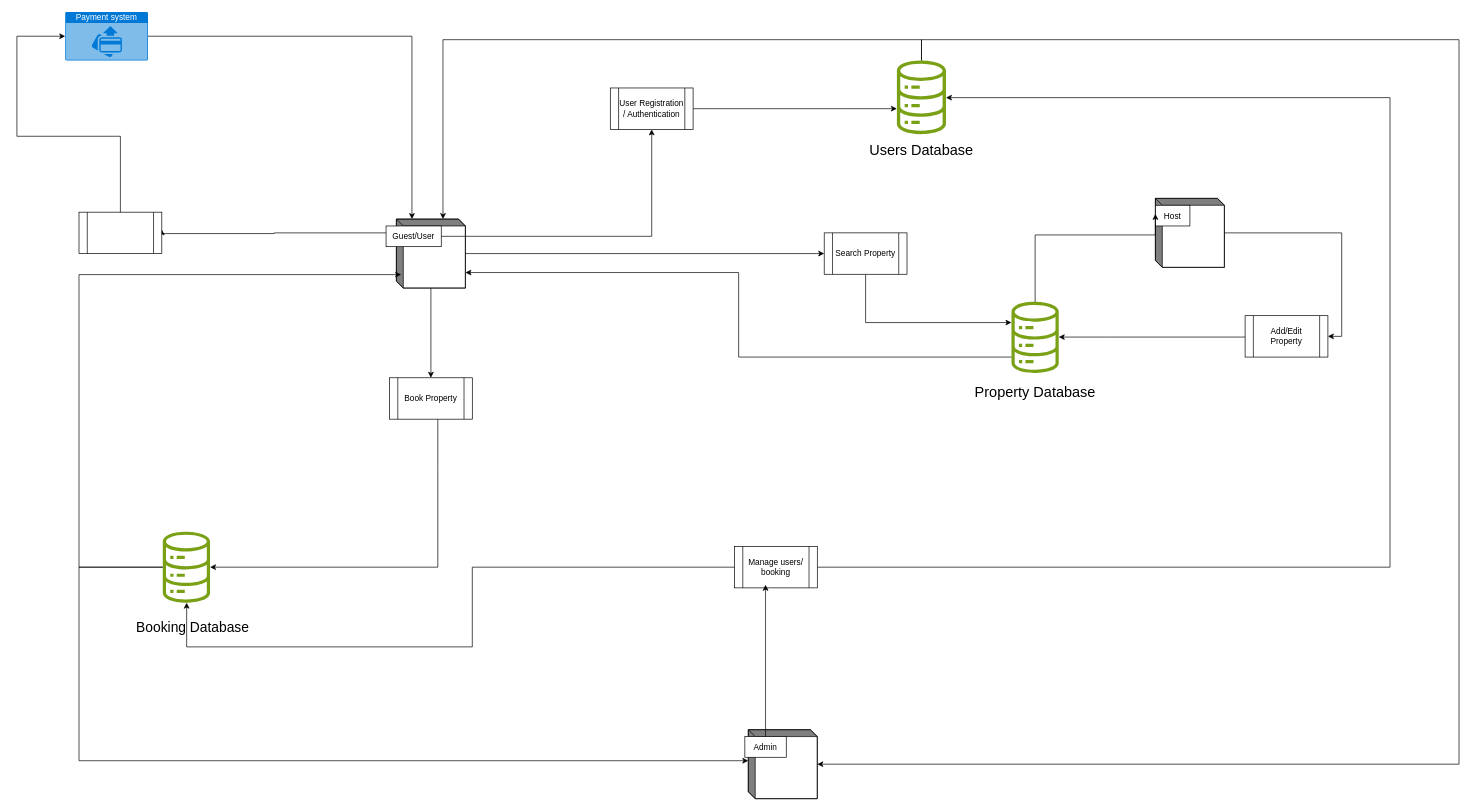
This 1477x811 diagram has some shape labels left out. The shapes that lost their labels are listed below. From the top down, each one's box as (x1, y1, x2, y2) in pixels, then its label:
(896, 60, 947, 134): JJ
(78, 211, 162, 254): Make payment
